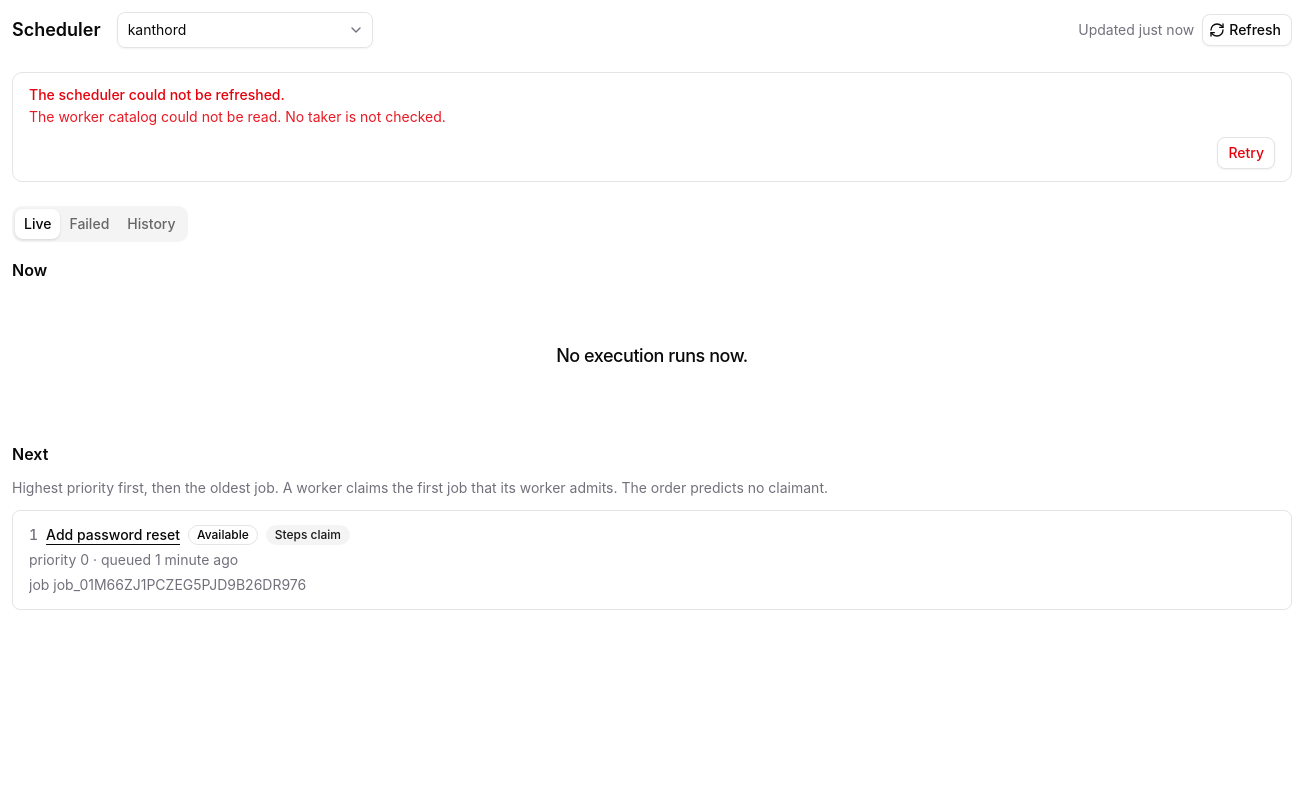
Test: SchedulerScreen states › names the failed worker catalog and marks no job as No taker
Expected: the text "The scheduler could not be refreshed." is shown, [29,86,285,103]
Expected: the link "Add password reset" is shown, [46,525,180,545]
Click the button "Retry" at (1246, 153), box [1217,137,1275,169]
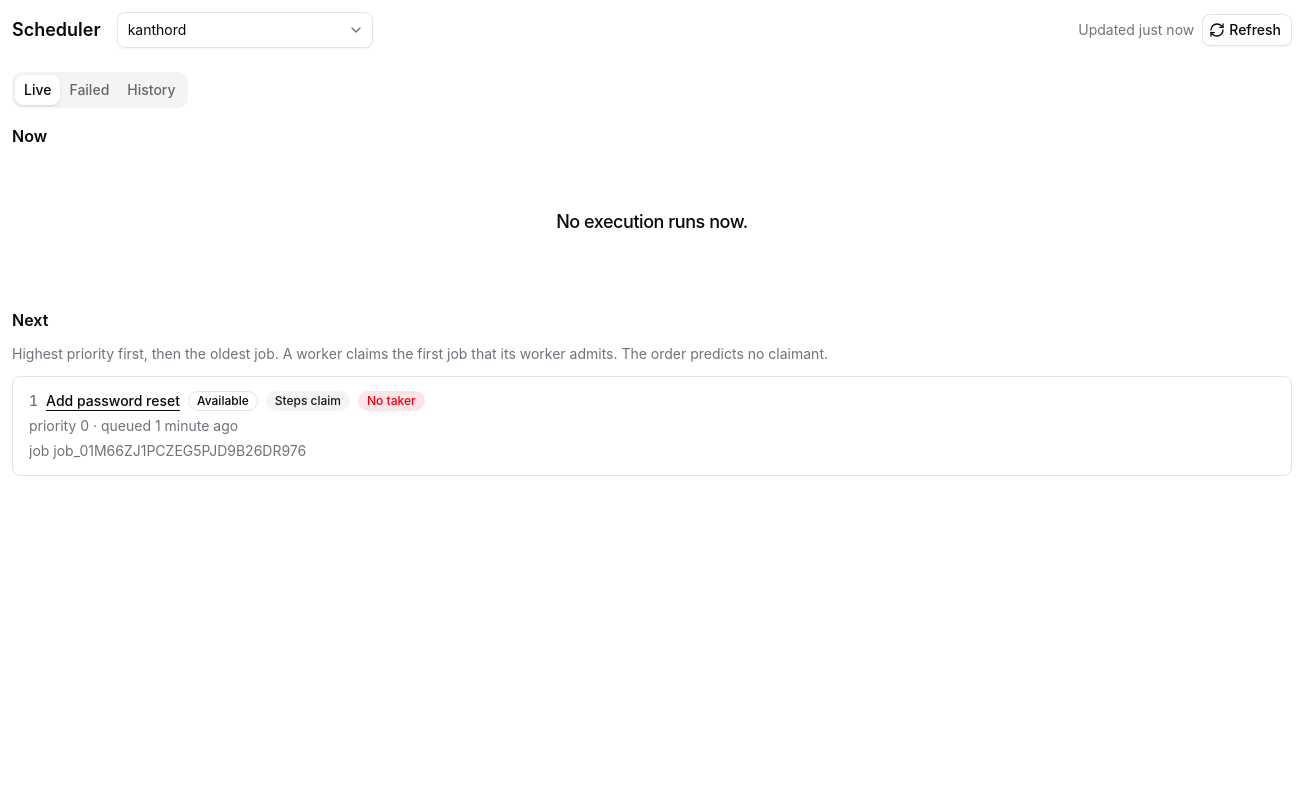
Expected: the text "The scheduler could not be refreshed." is gone
